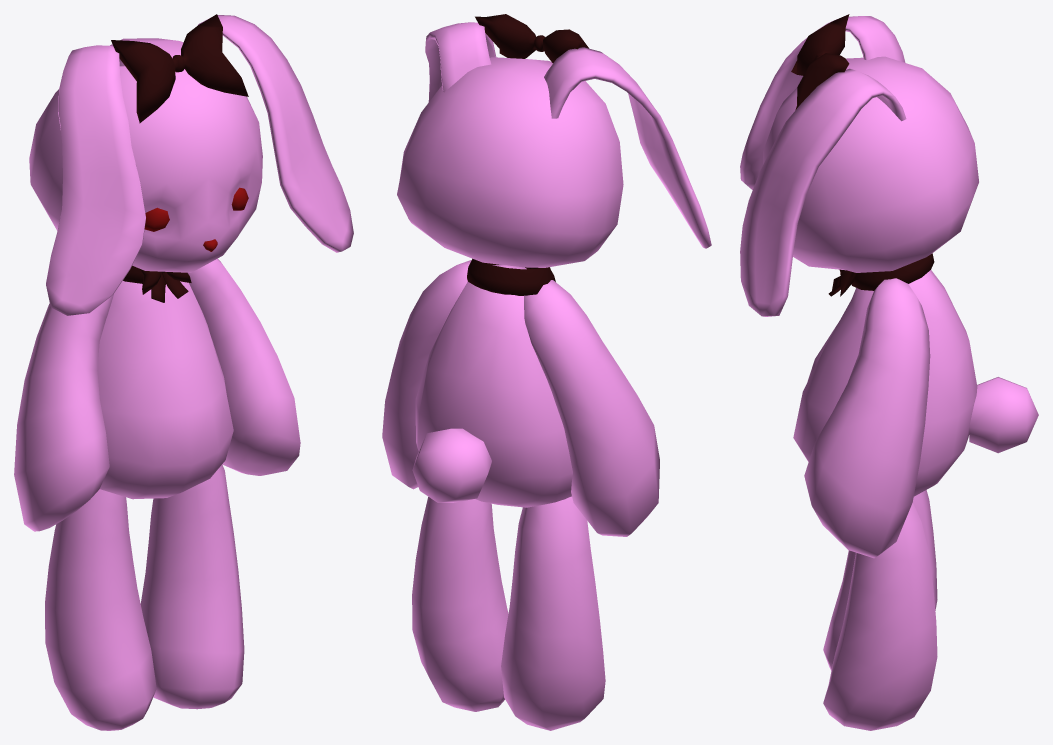
The model's file is Boss_Doll_Model.FBX.
3 views of the same model, side by side, from view 1: azimuth 30°, elevation 25°; view 2: azimuth 150°, elevation 25°; view 3: azimuth 270°, elevation 25° (orthographic). The views are drawn at different scales.
Parts seen in each view (by area): view 1: Riris_Boss_Doll; view 2: Riris_Boss_Doll; view 3: Riris_Boss_Doll.
Part boxes in pixels (left/top/right/bottom): Riris_Boss_Doll: left=14, top=14, right=353, bottom=730; Riris_Boss_Doll: left=382, top=14, right=711, bottom=730; Riris_Boss_Doll: left=740, top=14, right=1038, bottom=730.
Size of the model in its own units: 16.09 by 35.16 by 14.27.
